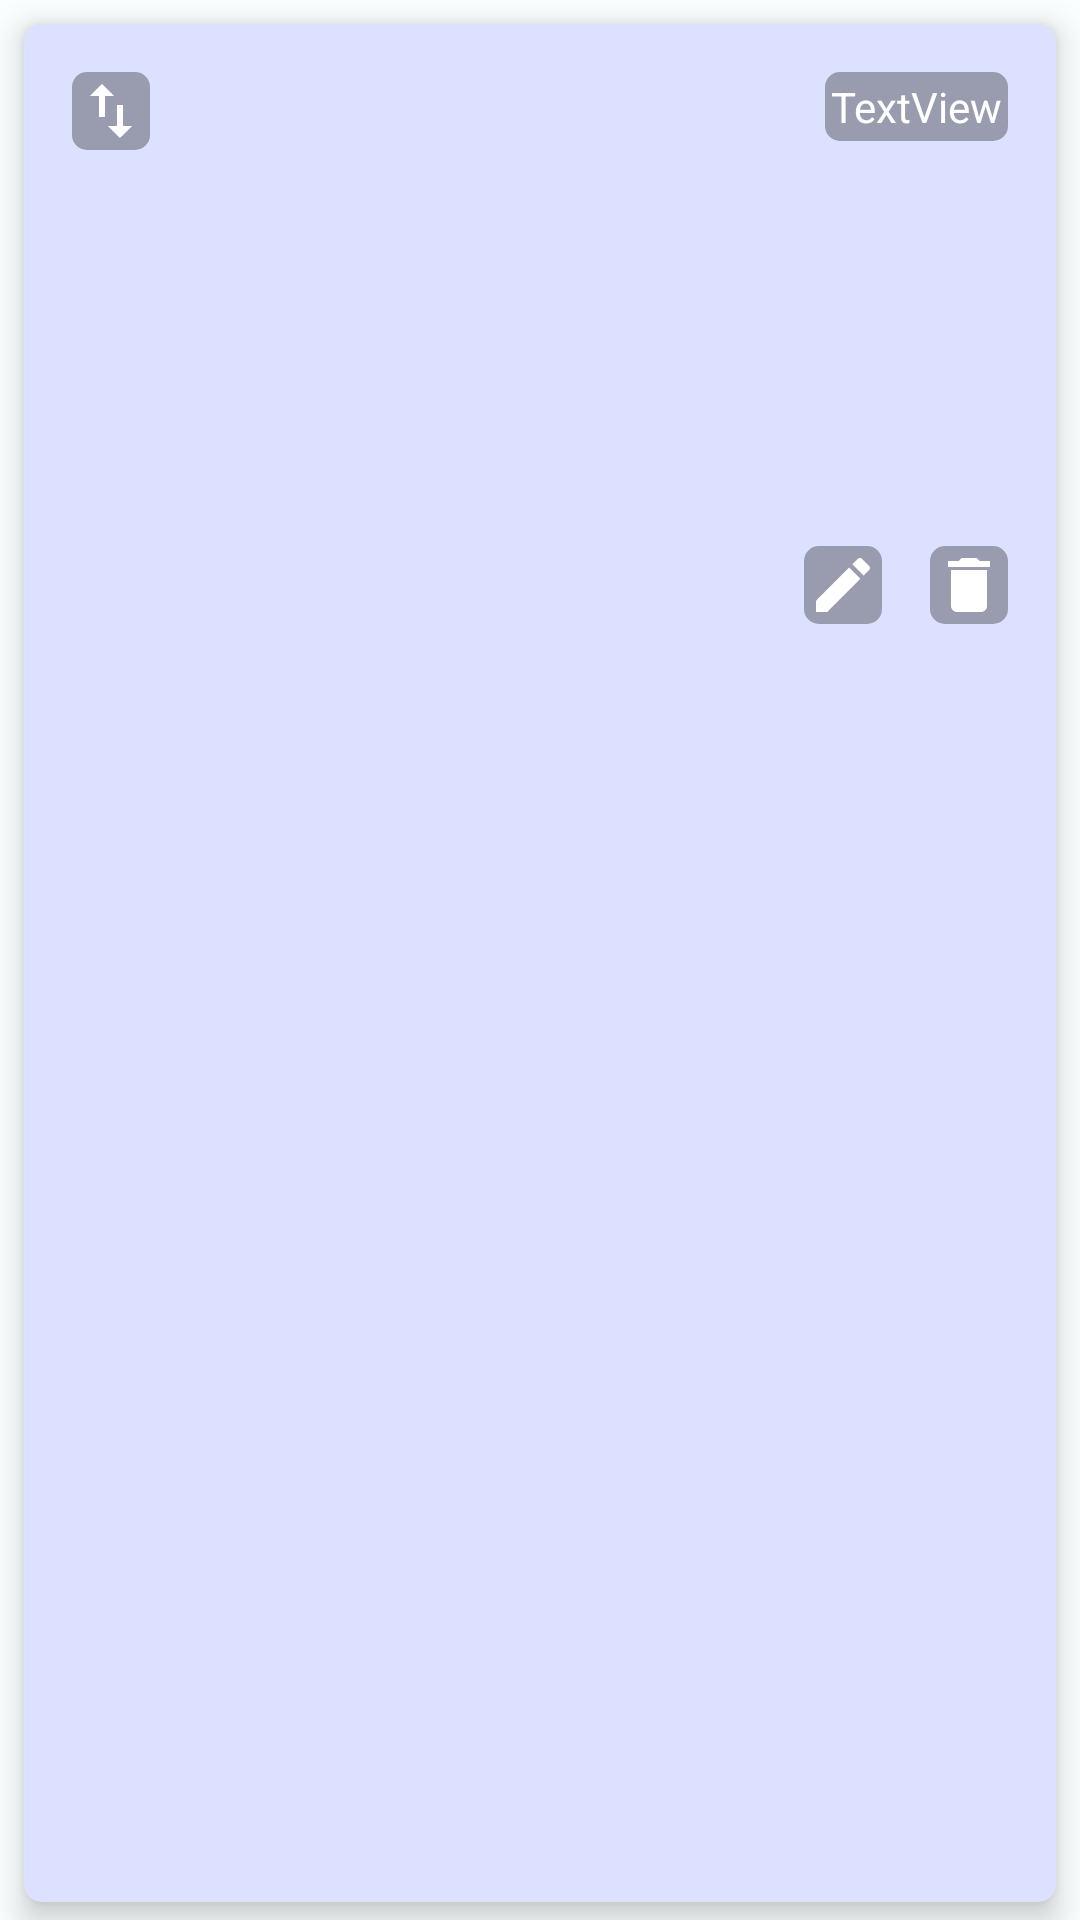

Locate icon controls on the screen. Image size 1080px x 1920px, boxes as {"left": x1, "top": y1, "right": x2, "bottom": y2}.
delete: {"left": 930, "top": 546, "right": 1008, "bottom": 624}
drag: {"left": 72, "top": 72, "right": 150, "bottom": 150}
edit: {"left": 804, "top": 546, "right": 882, "bottom": 624}
